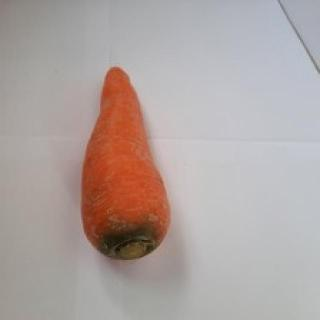carrot: (81, 64, 173, 262)
